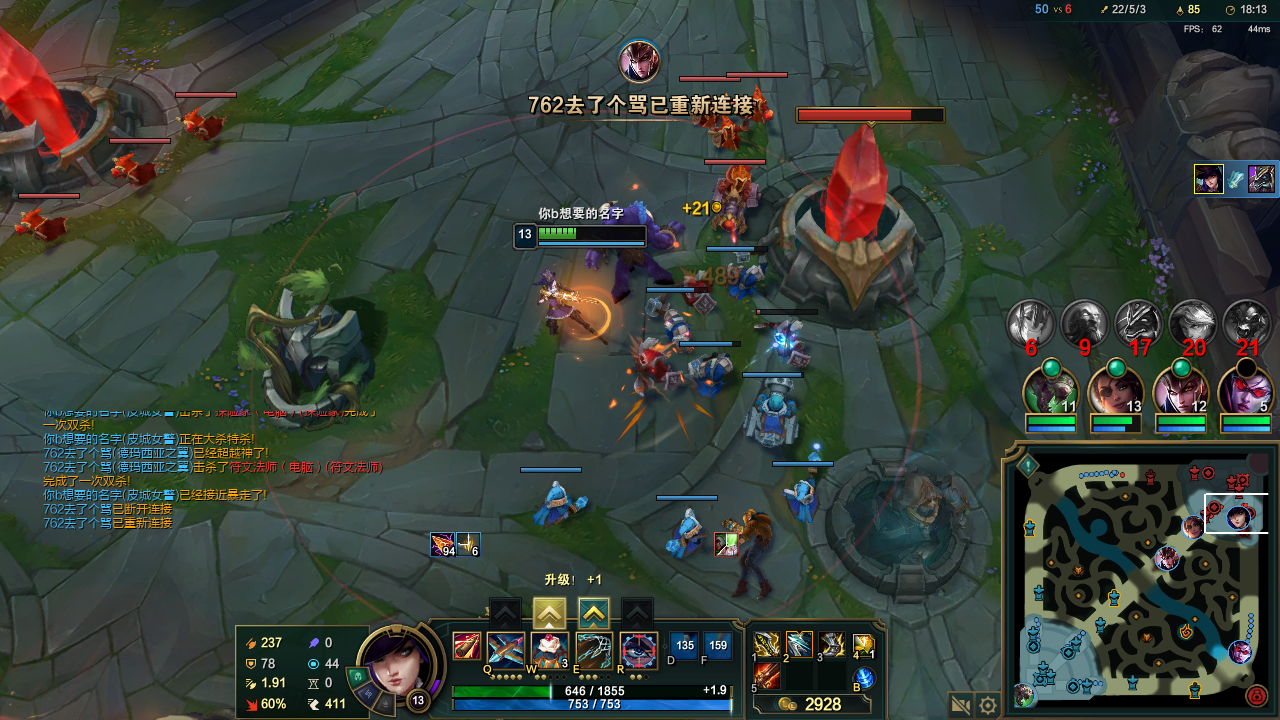DFSJ: (781, 107, 940, 319)
DFXB: (708, 169, 767, 245), (178, 109, 233, 148), (112, 154, 159, 190), (772, 328, 812, 370), (21, 209, 72, 241), (637, 345, 672, 391), (750, 92, 782, 126), (704, 122, 738, 147)
WFXB: (742, 381, 798, 445), (779, 475, 822, 519), (667, 512, 702, 561), (719, 262, 764, 300), (537, 488, 584, 524), (691, 352, 732, 391), (657, 307, 695, 340)
